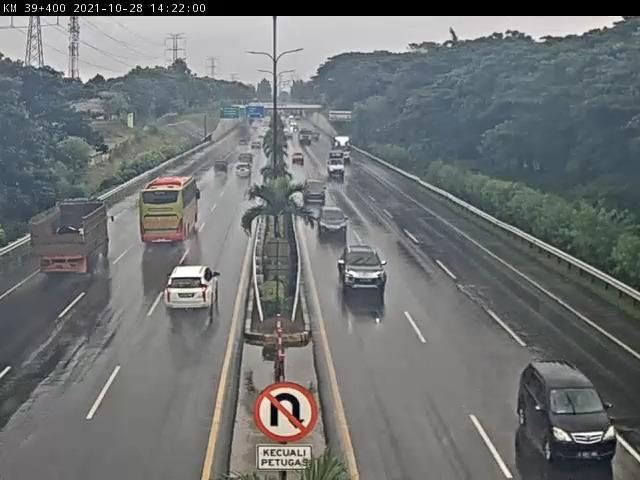bus: (137, 175, 202, 251)
car: (518, 361, 620, 466), (163, 266, 220, 320), (339, 245, 388, 290), (320, 207, 351, 239), (303, 177, 328, 202), (236, 164, 255, 183), (238, 150, 257, 166), (212, 160, 231, 176), (291, 151, 307, 168)
truck: (28, 200, 112, 280), (327, 151, 347, 180)
